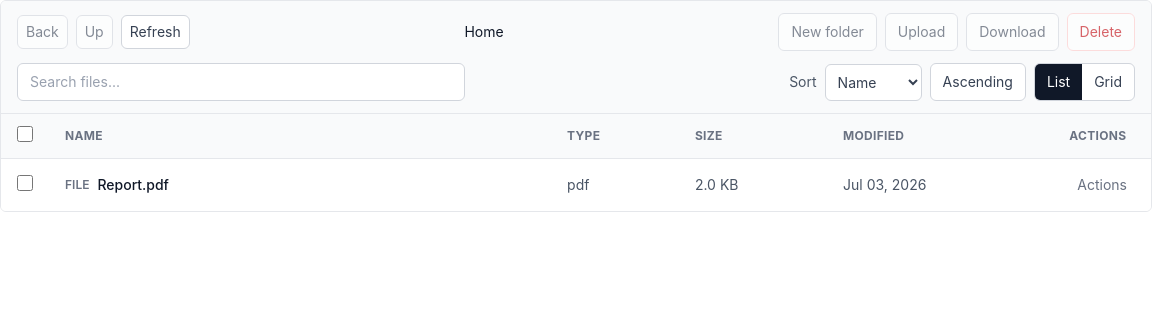
FileManager › uses provider operations and refreshes after delete
Click the checkbox named "Select Report.pdf" at (25, 182), box [17, 174, 33, 190]
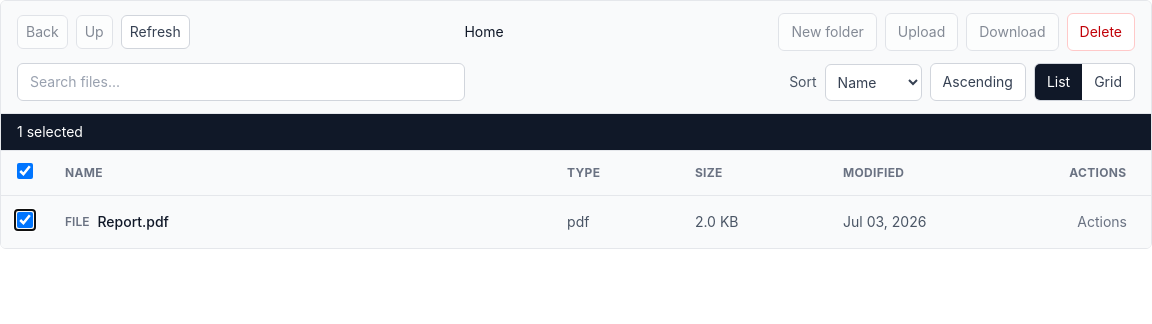
Click the button "Delete" at (1101, 32), box [1067, 13, 1135, 51]
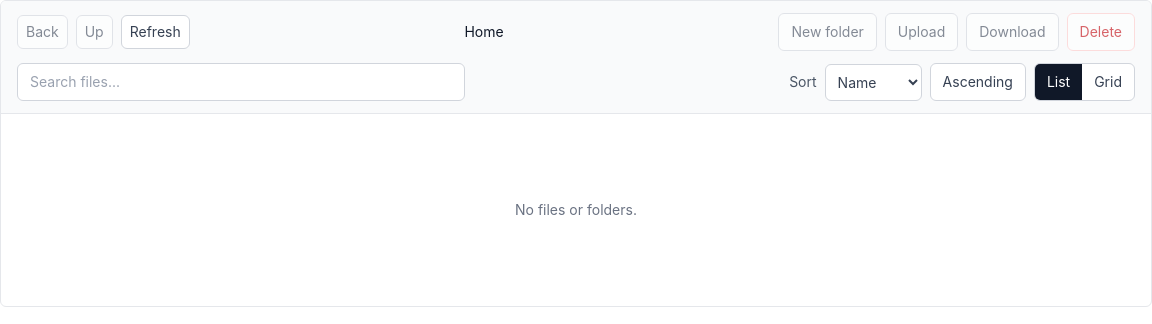
expect the text "No files or folders." is shown: met, box [515, 201, 637, 218]
